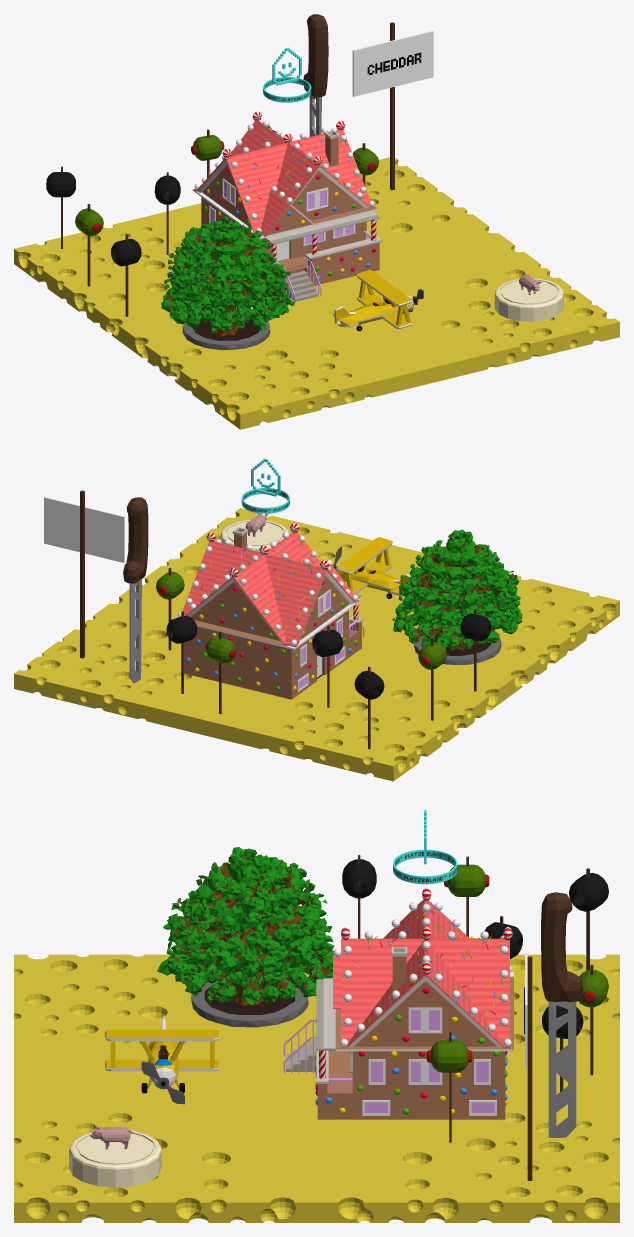
3 renders of one model, top to bottom at view 1: azimuth 30°, elevation 25°; view 2: azimuth 150°, elevation 25°; view 3: azimuth 270°, elevation 25°, orthographic. The views are drawn at different scales.
Visible parts, largest first — view 1: Cube.022, Cube.1203, OBJRANDOM_CEIBA, Cube.023, VEHICLES_AIRPLANE, Cylinder.016, Cube.024, TYPE_PREMIUM, Sphere.017, Sphere.018, Sphere.016, Sphere.020 (+2 smaller); view 2: Cube.022, Cube.1203, OBJRANDOM_CEIBA, Cube.023, Cube.024, VEHICLES_AIRPLANE, Cylinder.016, TYPE_PREMIUM, Sphere.021, Sphere.017, Sphere.020, Sphere.022 (+3 smaller); view 3: Cube.022, Cube.1203, OBJRANDOM_CEIBA, Cube.024, VEHICLES_AIRPLANE, Cylinder.016, Cube.023, Sphere.019, Sphere.016, TYPE_PREMIUM, Sphere.017, Sphere.018 (+4 smaller).
Part boxes in pixels (x1,y1,x2,y2): Cube.022: (14, 157, 619, 429); Cube.1203: (192, 111, 382, 302); OBJRANDOM_CEIBA: (161, 216, 294, 350); Cube.023: (352, 22, 433, 190); VEHICLES_AIRPLANE: (332, 270, 423, 331); Cylinder.016: (494, 278, 563, 321); Cube.024: (303, 14, 328, 136); TYPE_PREMIUM: (263, 47, 311, 102); Sphere.017: (111, 234, 141, 316); Sphere.018: (75, 204, 103, 286); Sphere.016: (46, 166, 75, 248); Sphere.020: (154, 172, 180, 254); Cube.022: (14, 508, 619, 781); Cube.1203: (178, 523, 364, 699); OBJRANDOM_CEIBA: (392, 529, 521, 664); Cube.023: (44, 490, 124, 658); Cube.024: (123, 497, 148, 683); VEHICLES_AIRPLANE: (332, 537, 410, 598); Cylinder.016: (220, 520, 289, 552); TYPE_PREMIUM: (241, 458, 289, 513); Sphere.021: (166, 611, 197, 693); Sphere.017: (460, 609, 491, 691); Sphere.020: (312, 625, 342, 707); Sphere.022: (205, 631, 236, 714); Cube.022: (14, 954, 619, 1222); Cube.1203: (283, 887, 513, 1119); OBJRANDOM_CEIBA: (157, 847, 334, 1027); Cube.024: (541, 892, 583, 1137); VEHICLES_AIRPLANE: (105, 1016, 219, 1104); Cylinder.016: (69, 1130, 161, 1187); Cube.023: (524, 953, 532, 1180); Sphere.019: (426, 1032, 472, 1142); Sphere.016: (569, 868, 608, 970); TYPE_PREMIUM: (393, 810, 457, 884); Sphere.017: (342, 855, 376, 938); Sphere.018: (444, 856, 489, 937).
Size of the model in its own units: 3917 by 2224 by 4000.
54 materials, 5 textured.
